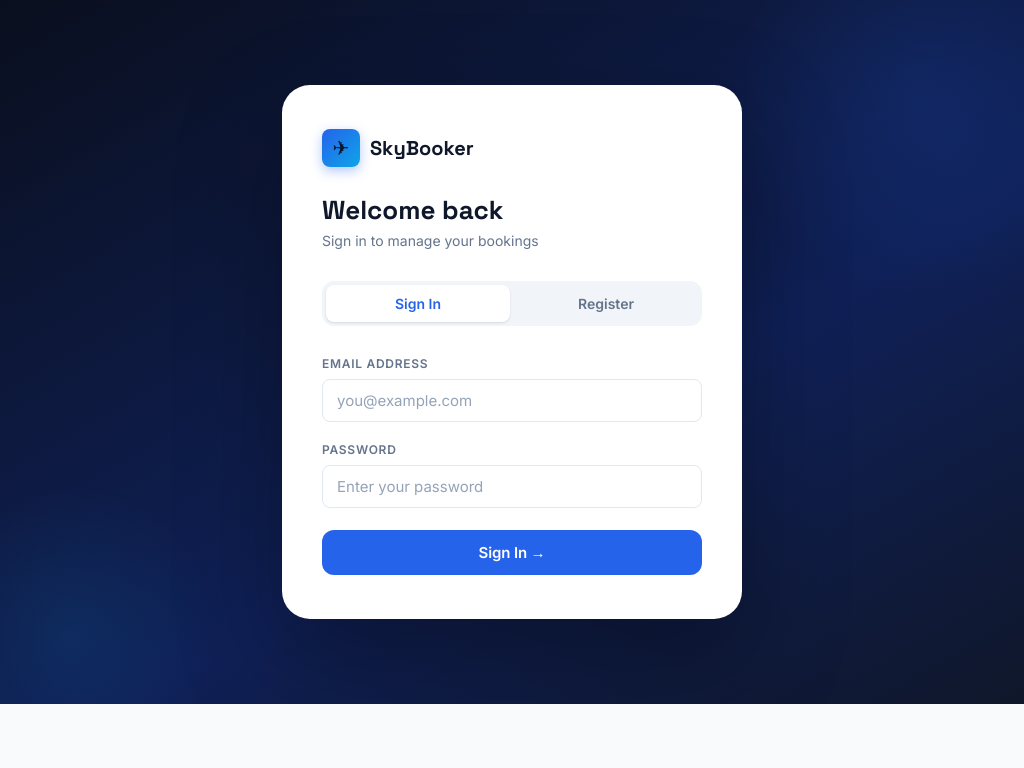
Test case: LoginPage — login flow › shows server error message on login failure
Type "bad@test.com" into the field with placeholder "you@example.com" at (512, 400), box [322,379,702,422]
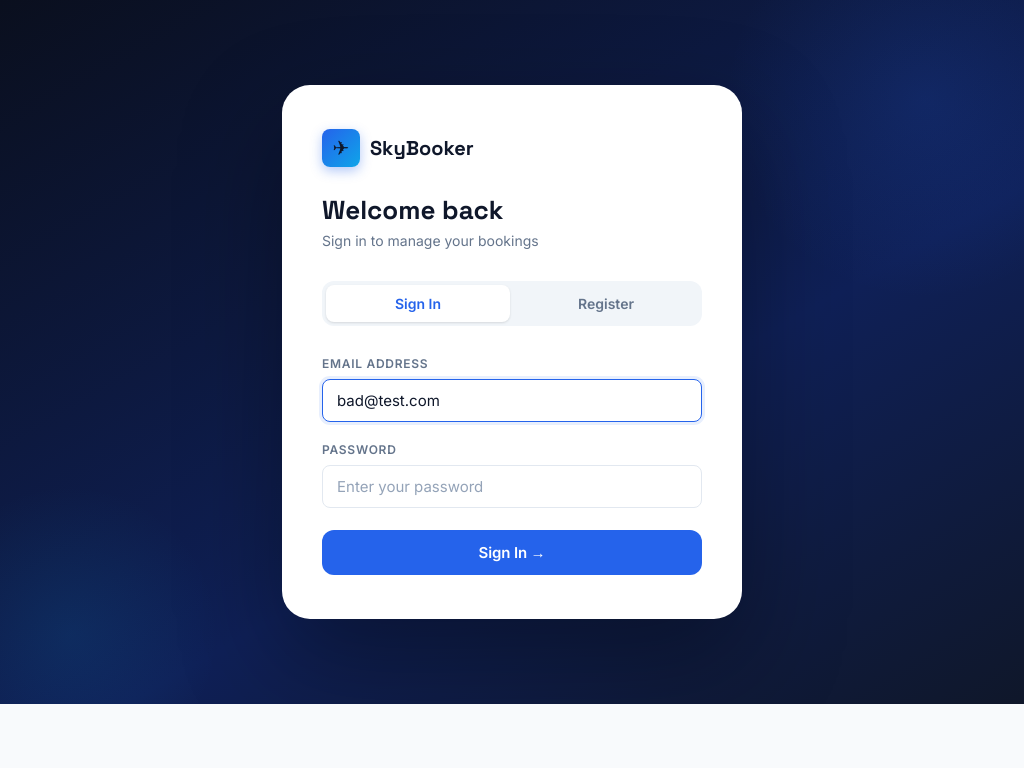
Type "wrong" into the password field with placeholder "Enter your password" at (512, 486), box [322,465,702,508]
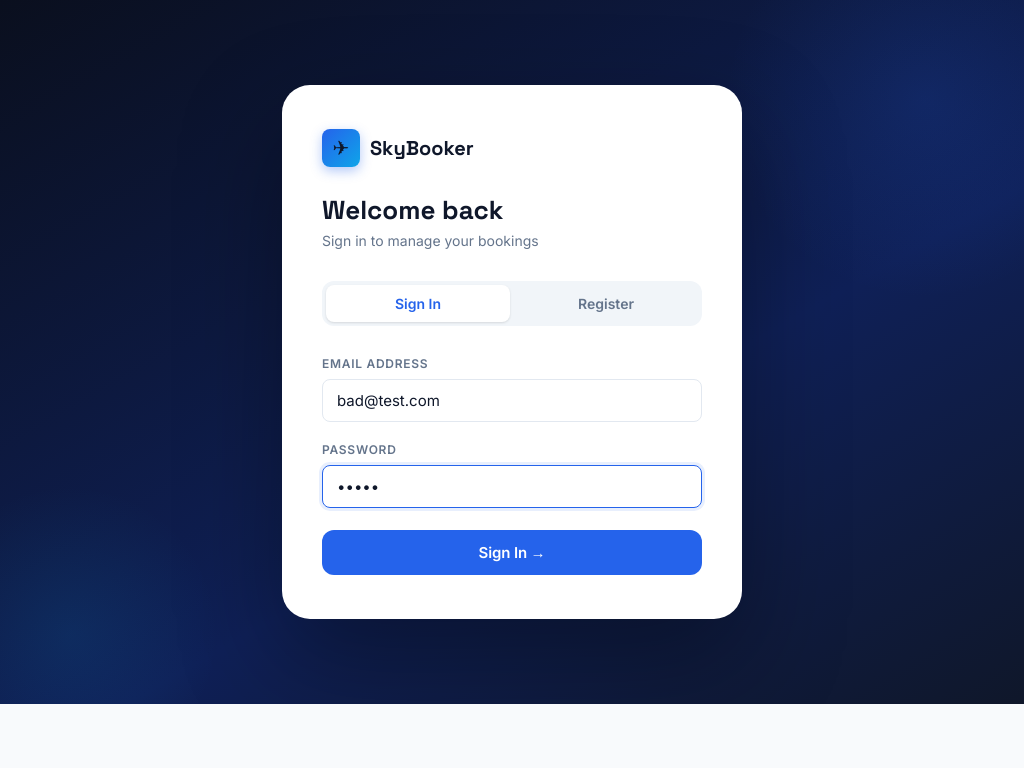
Click the button "Sign In →" at (512, 552), box [322,530,702,575]
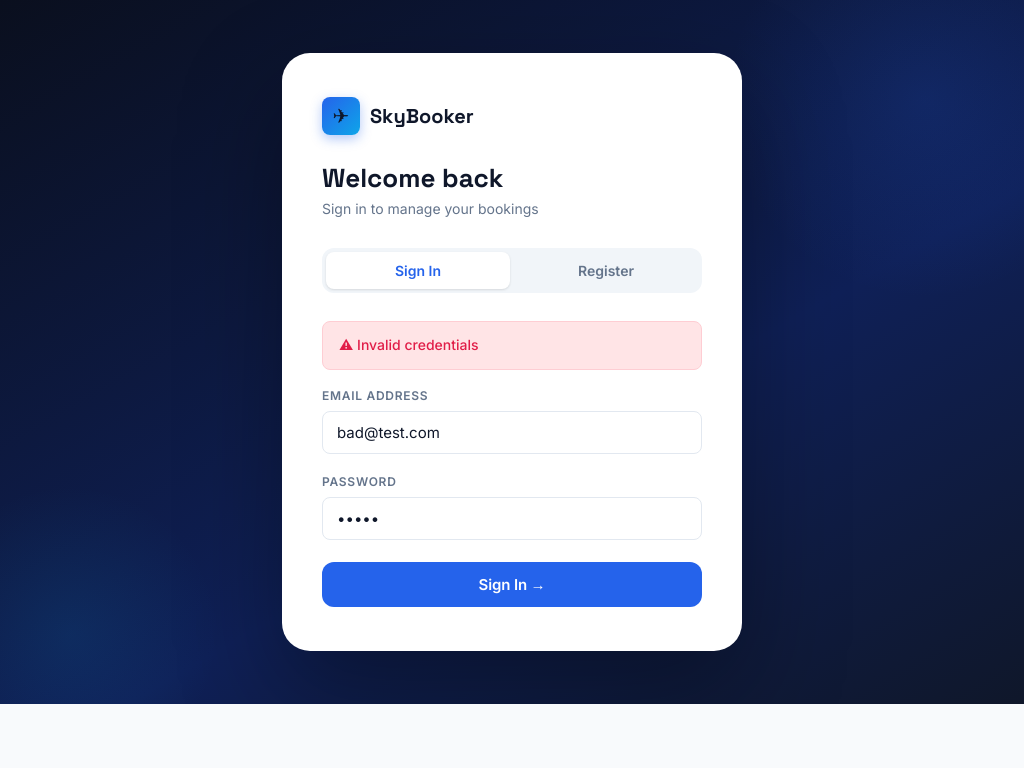
Expected: the text "⚠ Invalid credentials" is shown, [322,321,702,370]
